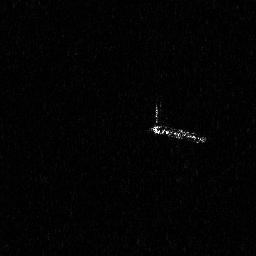ship: (147, 99, 209, 145)
